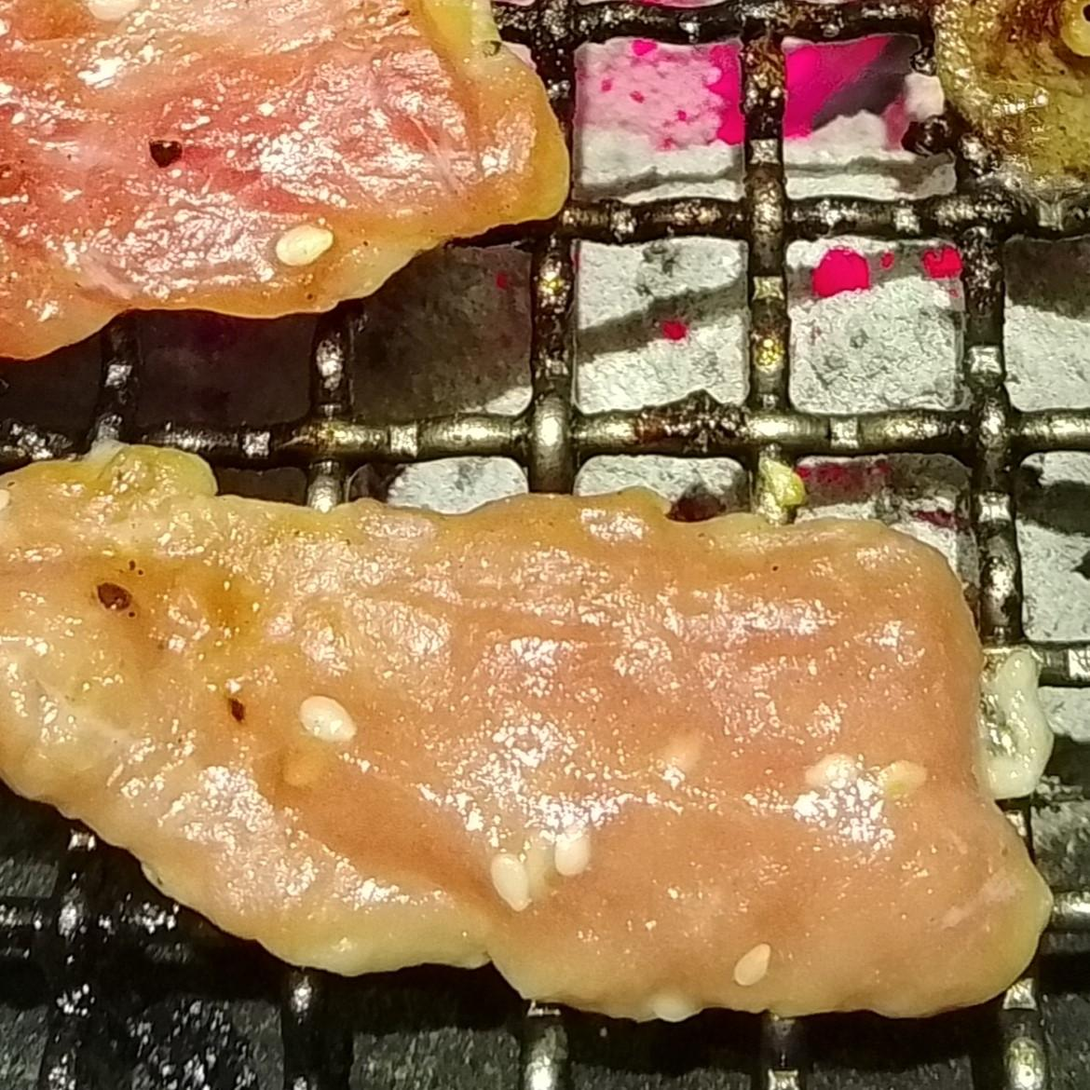Overcooked: (930, 0, 1089, 225)
Undercooked: (0, 443, 1056, 1027), (0, 0, 571, 365)
